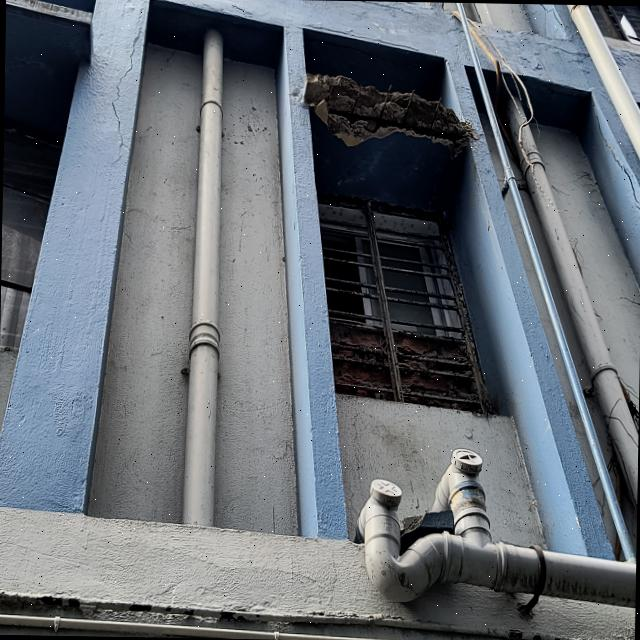Crack: (97, 4, 149, 178), (580, 91, 640, 223), (295, 18, 422, 57), (182, 0, 257, 26), (354, 1, 433, 19), (534, 4, 563, 32)
Spalling: (297, 73, 483, 156)
